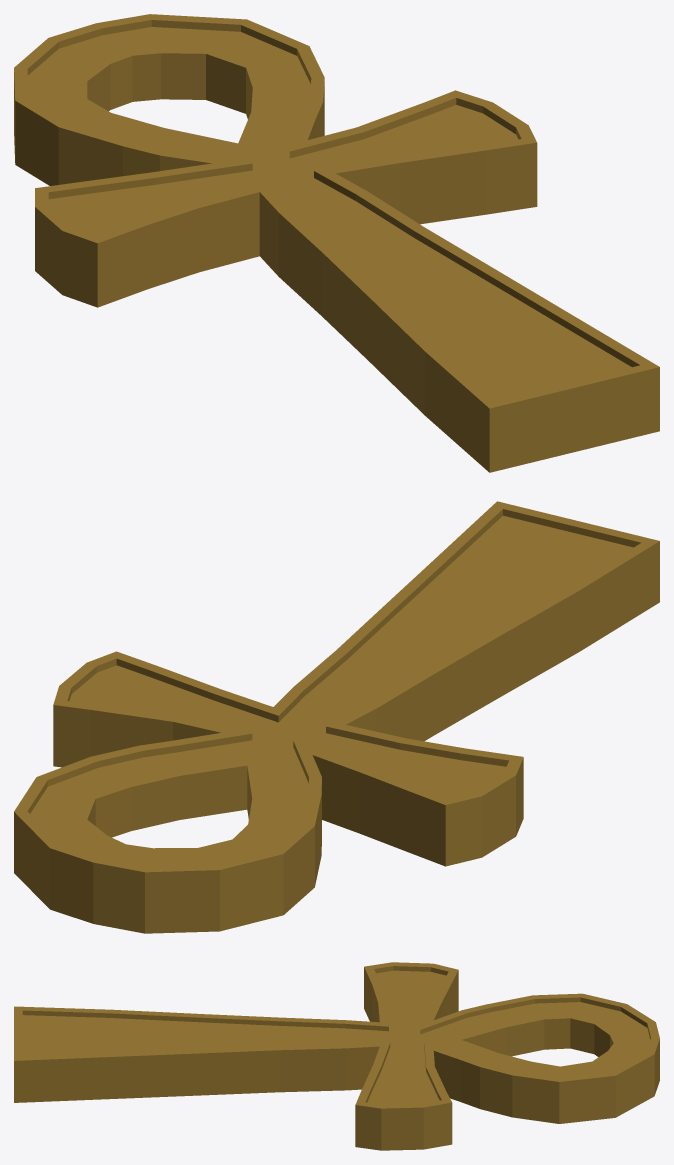
The model's file is Ankh_Mod.fbx.
3 renders of one model, top to bottom at view 1: azimuth 30°, elevation 25°; view 2: azimuth 150°, elevation 25°; view 3: azimuth 270°, elevation 25°, orthographic. The views are drawn at different scales.
Visible parts, largest first — view 1: ankh; view 2: ankh; view 3: ankh.
Boxes of the visible parts, left/top/right/bottom form: ankh: left=14, top=14, right=659, bottom=472; ankh: left=14, top=501, right=659, bottom=933; ankh: left=14, top=962, right=659, bottom=1150.
Bounding box in the file's own units: 256 × 34.38 × 478.
